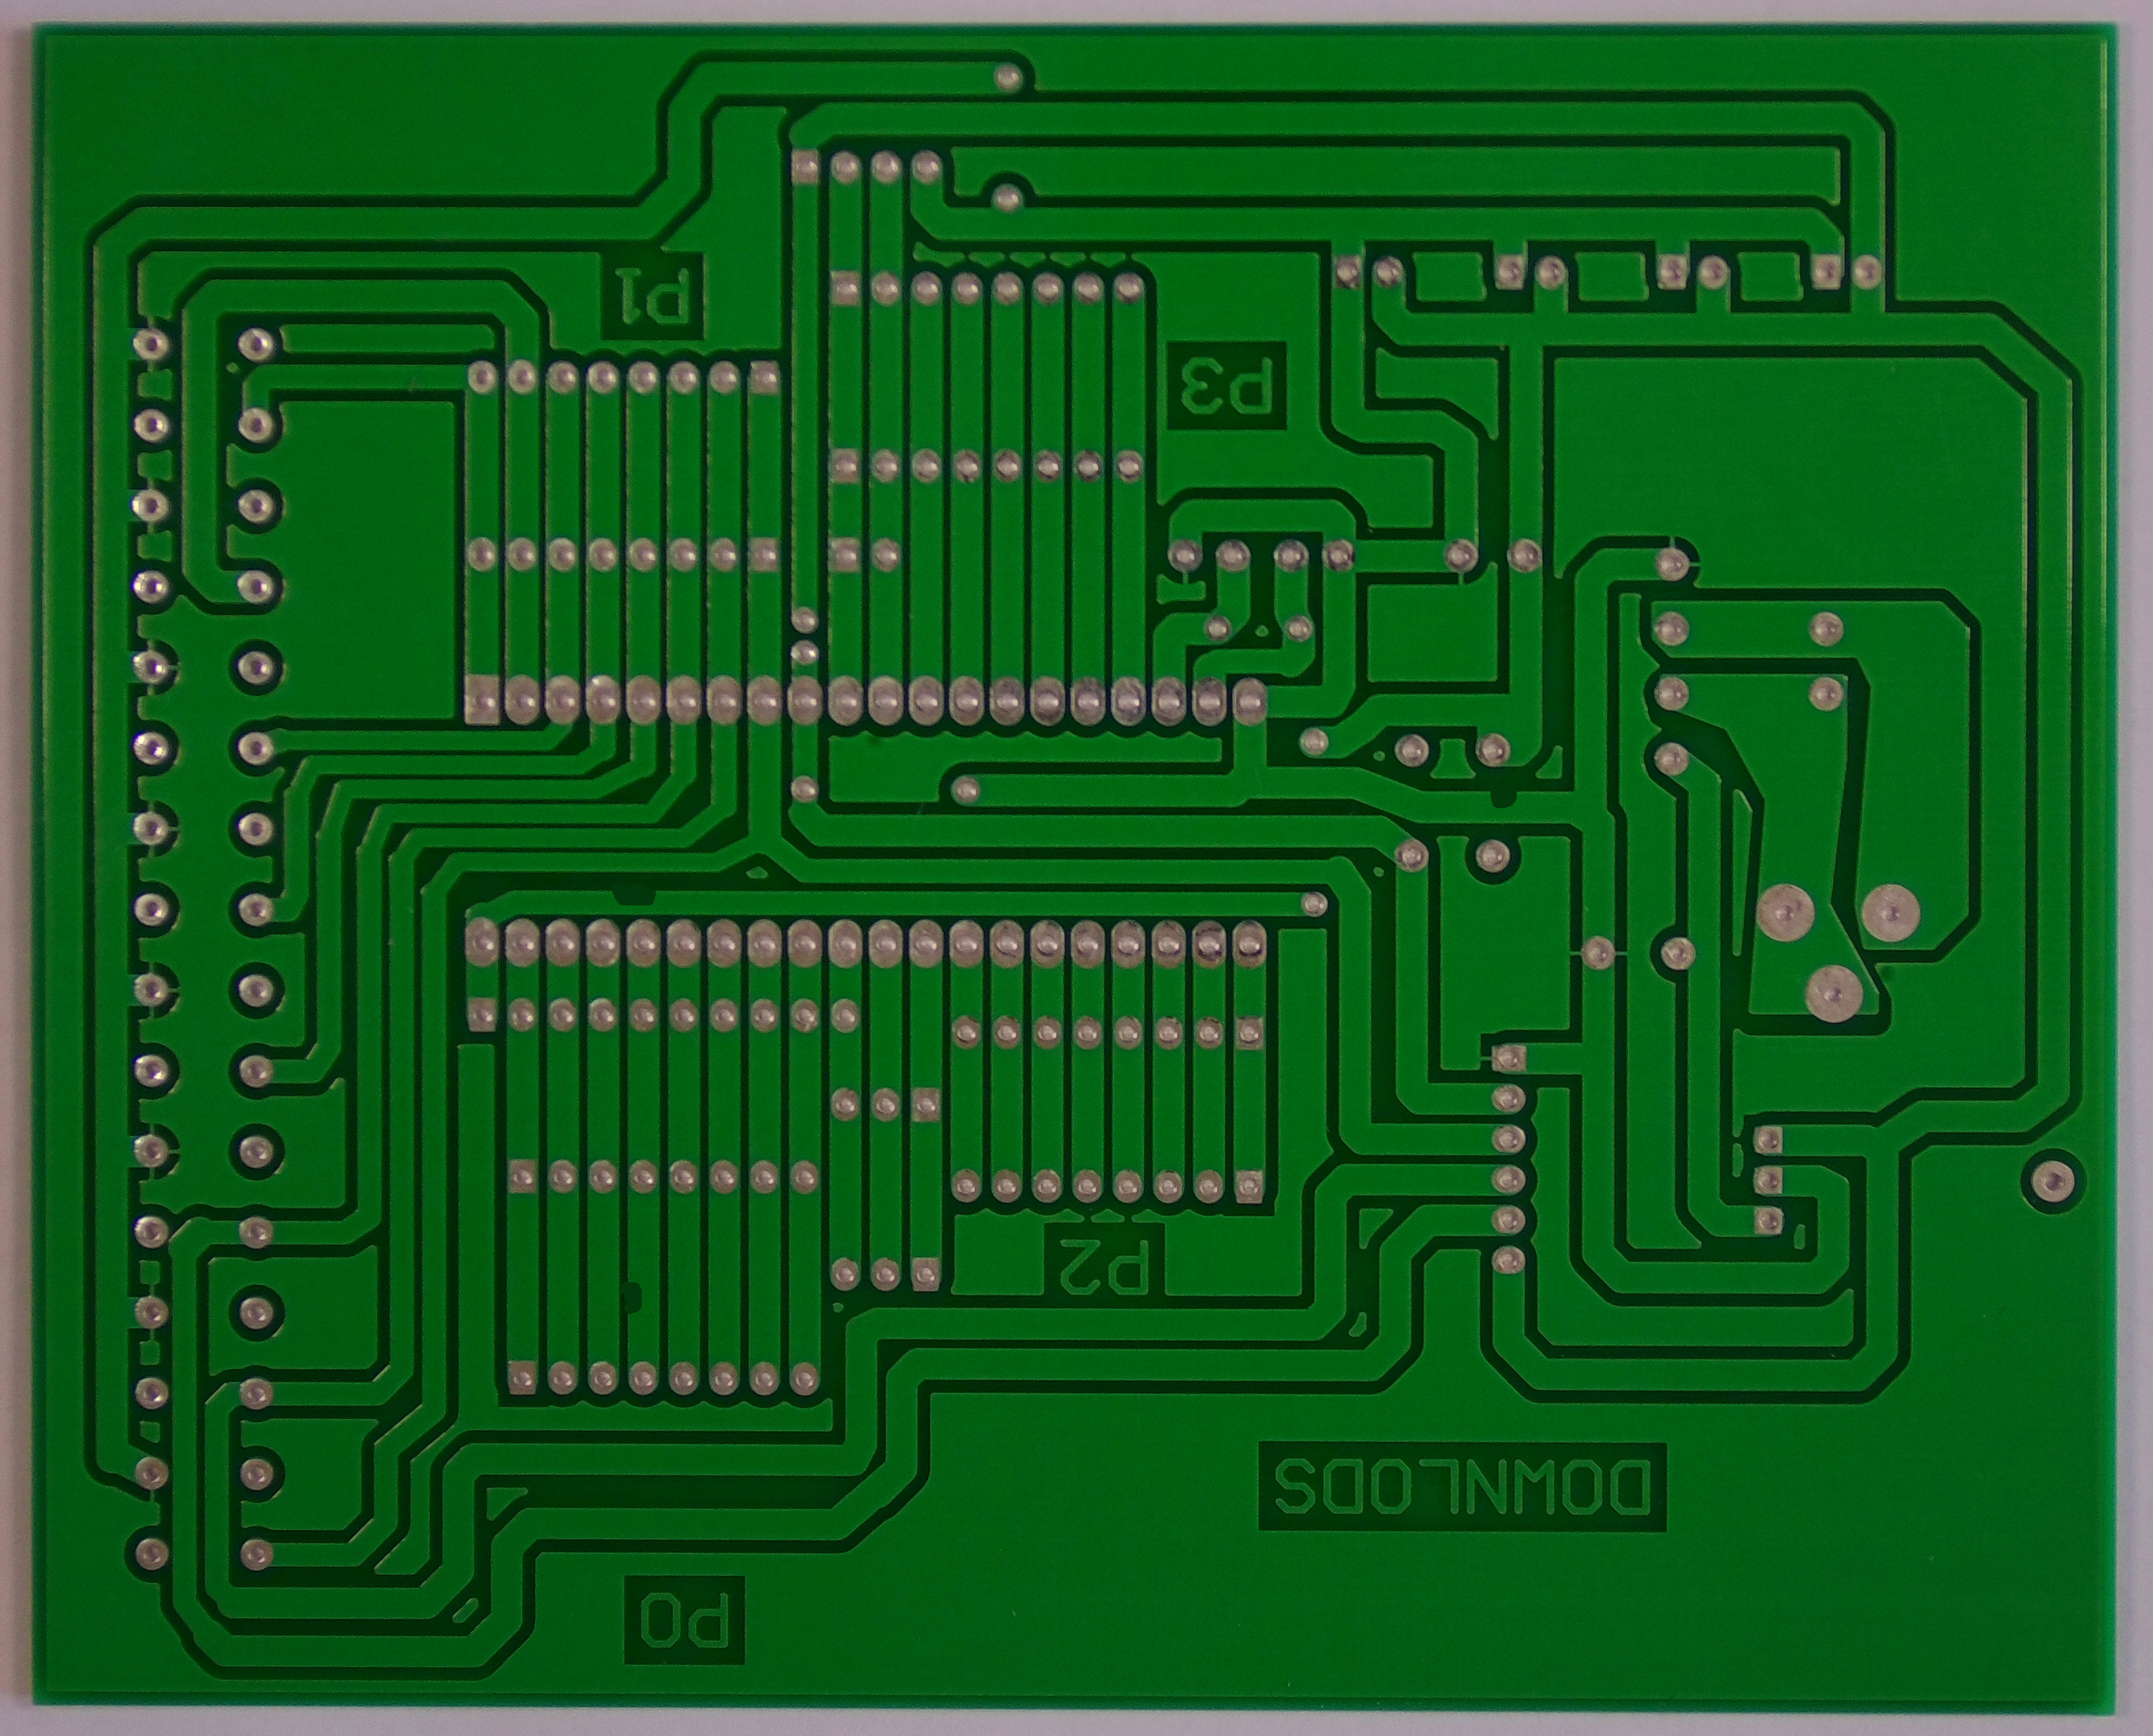mouse_bite: (602, 872, 674, 919), (1468, 770, 1534, 821), (614, 1269, 655, 1325)
